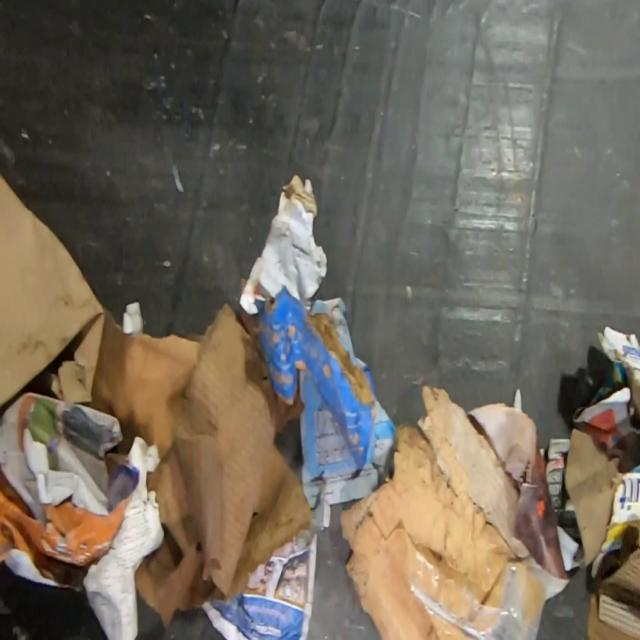cardboard: (87, 300, 312, 633), (336, 422, 548, 640), (237, 287, 378, 471), (0, 171, 107, 410), (414, 383, 531, 557), (588, 323, 640, 579), (588, 323, 640, 579), (236, 170, 329, 313), (585, 524, 640, 640)
